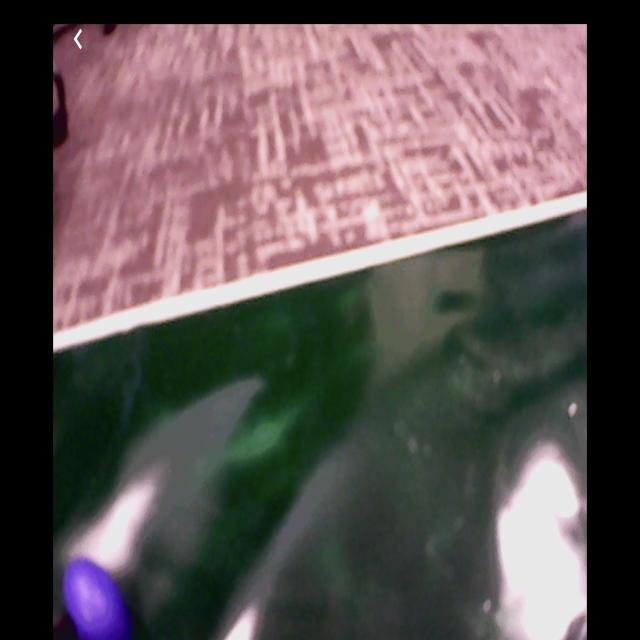ball: (64, 559, 128, 640)
